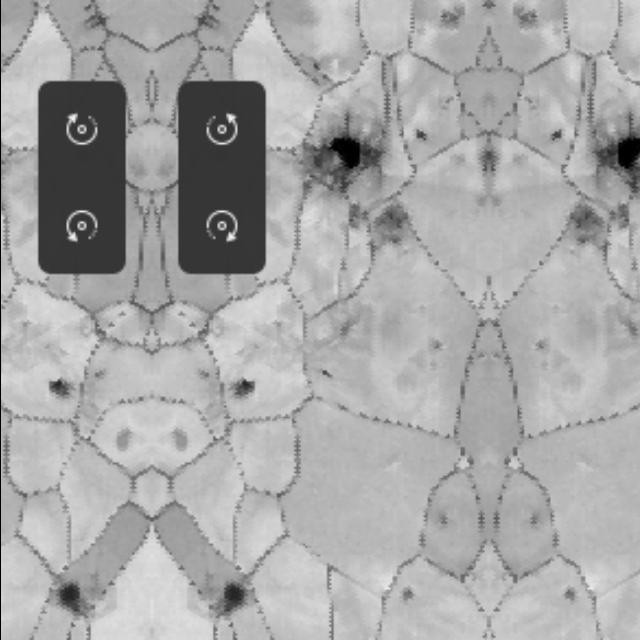good_void: (337, 196, 413, 254), (565, 196, 640, 254), (319, 134, 369, 180), (609, 134, 640, 180), (220, 580, 249, 619), (54, 580, 83, 619), (46, 373, 74, 400), (229, 373, 256, 400), (167, 426, 190, 455), (113, 426, 136, 455), (438, 11, 466, 31), (512, 11, 540, 31), (399, 579, 418, 607), (560, 579, 579, 607), (427, 336, 445, 361), (533, 336, 551, 361), (198, 13, 222, 31), (81, 13, 105, 31), (438, 507, 453, 535), (525, 507, 540, 535), (195, 366, 212, 384), (91, 366, 108, 384), (413, 127, 433, 142), (545, 127, 565, 142), (316, 366, 337, 379), (481, 146, 489, 173), (489, 146, 497, 173), (176, 310, 188, 320), (115, 310, 126, 320), (187, 322, 197, 329), (106, 322, 116, 329)
